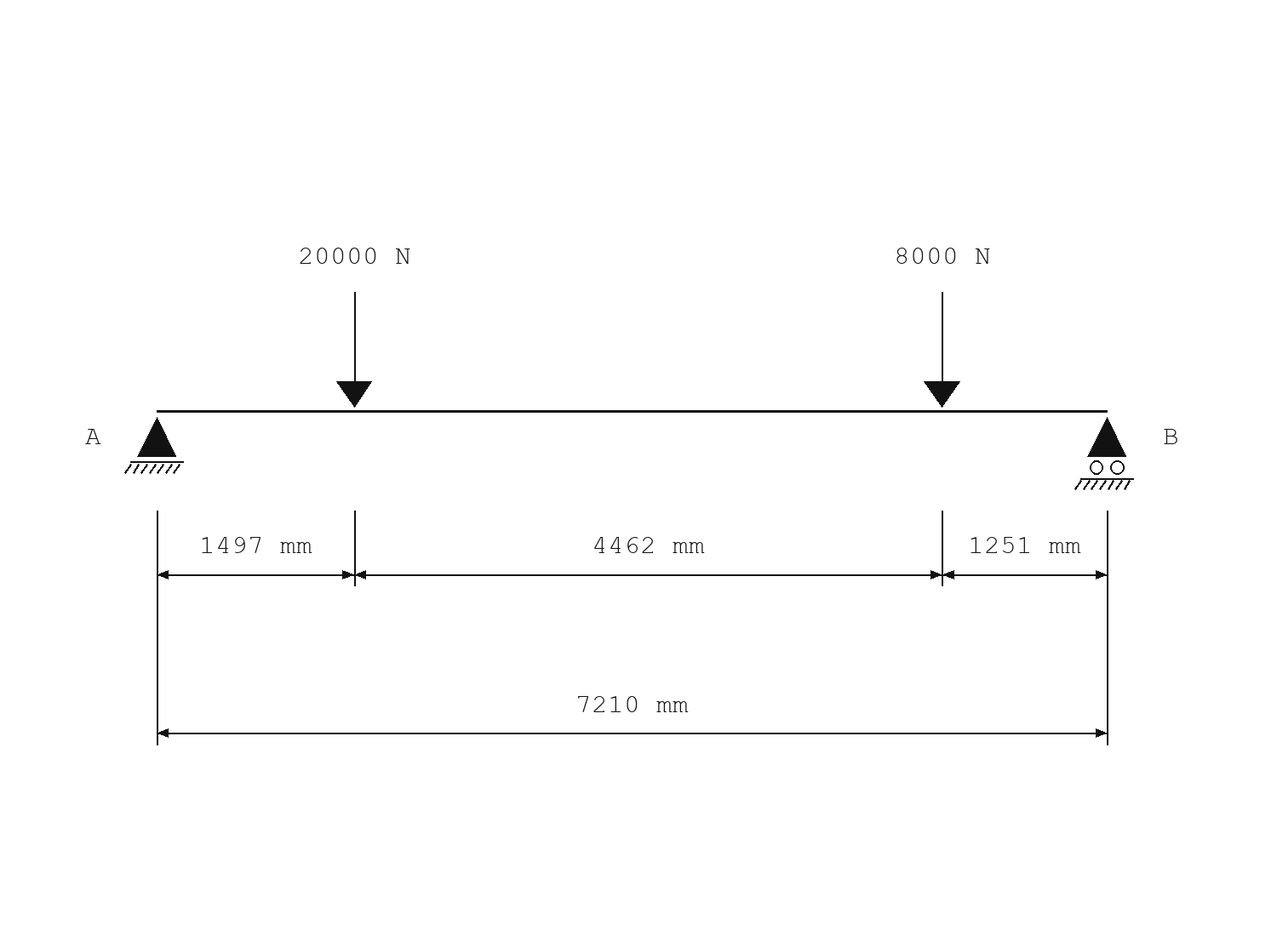pin_support: (124, 417, 184, 474)
point_load: (336, 292, 372, 408), (924, 292, 960, 408)
roller_support: (1074, 417, 1134, 490)
